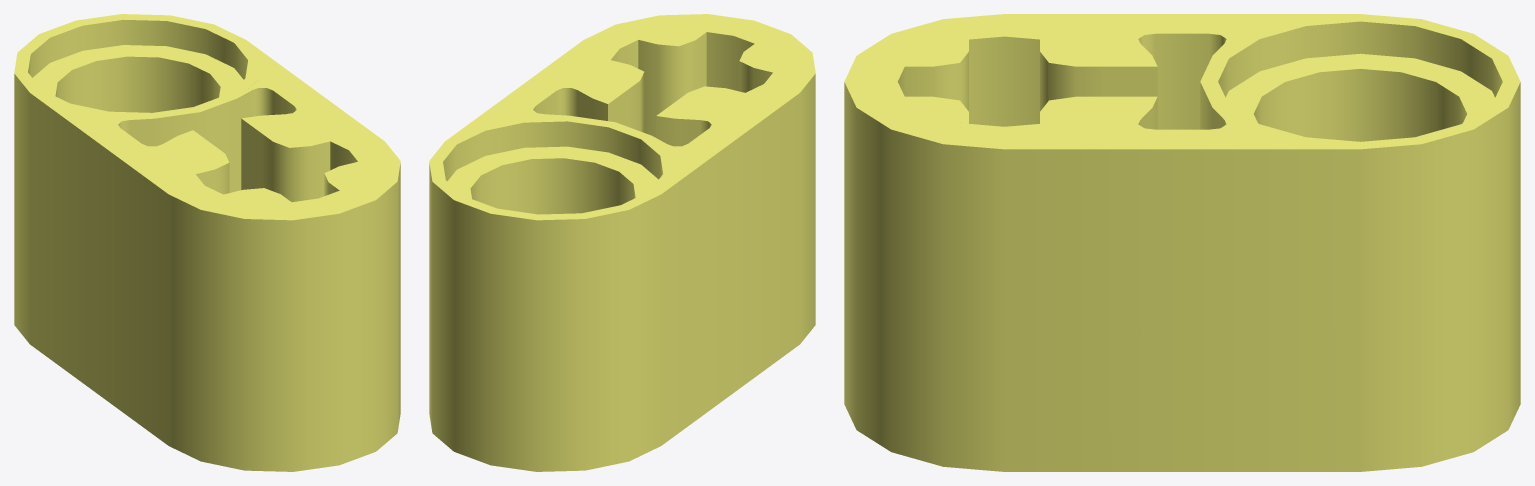
3 renders of one model, left to right at view 1: azimuth 30°, elevation 25°; view 2: azimuth 150°, elevation 25°; view 3: azimuth 270°, elevation 25°, orthographic. The views are drawn at different scales.
Visible parts, largest first — view 1: 60483.dat; view 2: 60483.dat; view 3: 60483.dat.
Boxes of the visible parts, box(x1,y1,x2,y2) form: 60483.dat: box(14, 14, 400, 471); 60483.dat: box(429, 14, 815, 471); 60483.dat: box(844, 14, 1520, 471).
Bounding box in the file's own units: 0.0072 × 0.008 × 0.0152.
